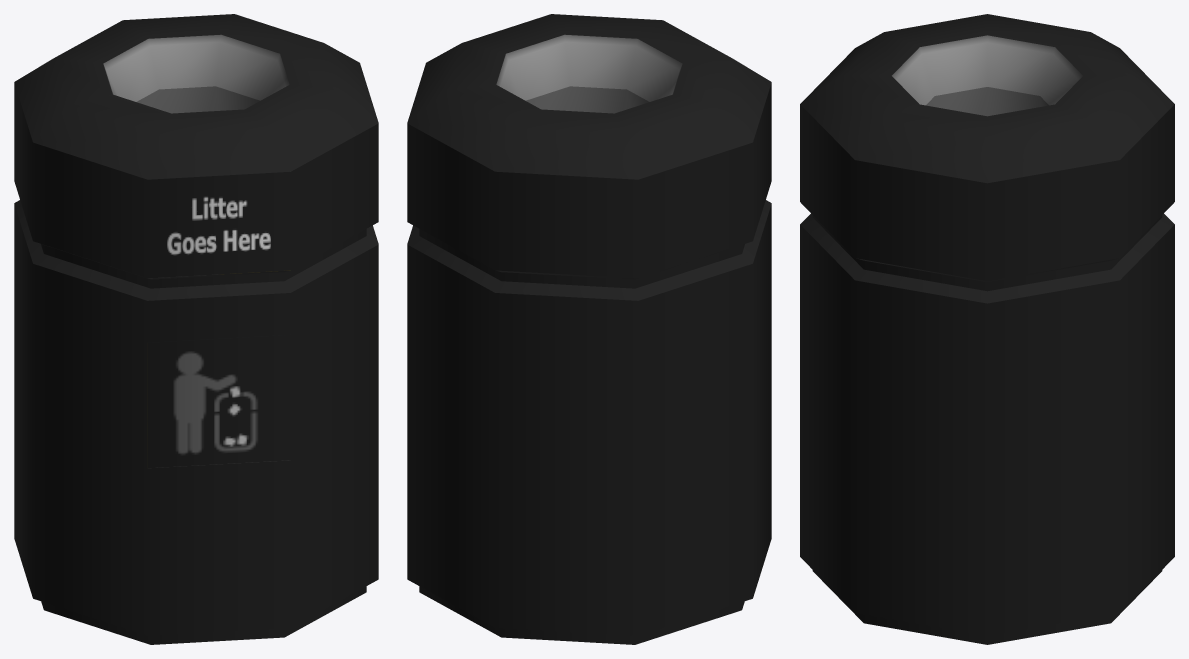
Rendered from SW_PROP_TrashCan.fbx.
The picture shows the model from 3 angles, left to right: view 1: azimuth 30°, elevation 25°; view 2: azimuth 150°, elevation 25°; view 3: azimuth 270°, elevation 25°; orthographic projection.
Visible parts, largest first — view 1: SW_PROP_TrashCan; view 2: SW_PROP_TrashCan; view 3: SW_PROP_TrashCan.
Boxes of the visible parts, box(x1,y1,x2,y2) form: SW_PROP_TrashCan: box(14, 14, 378, 644); SW_PROP_TrashCan: box(407, 14, 771, 644); SW_PROP_TrashCan: box(800, 14, 1174, 644).
Bounding box in the file's own units: 0.72 × 1.05 × 0.72.
